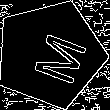M_W: (17, 23, 83, 85)
